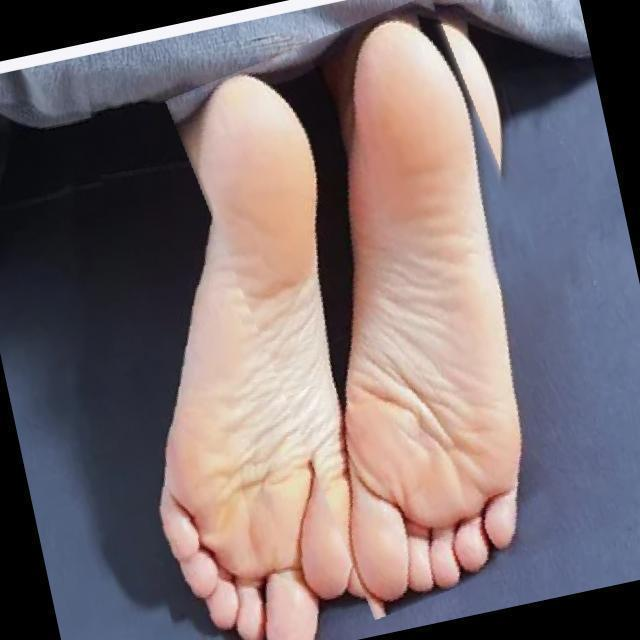No_Shoes: (328, 0, 526, 611), (152, 53, 312, 640)
